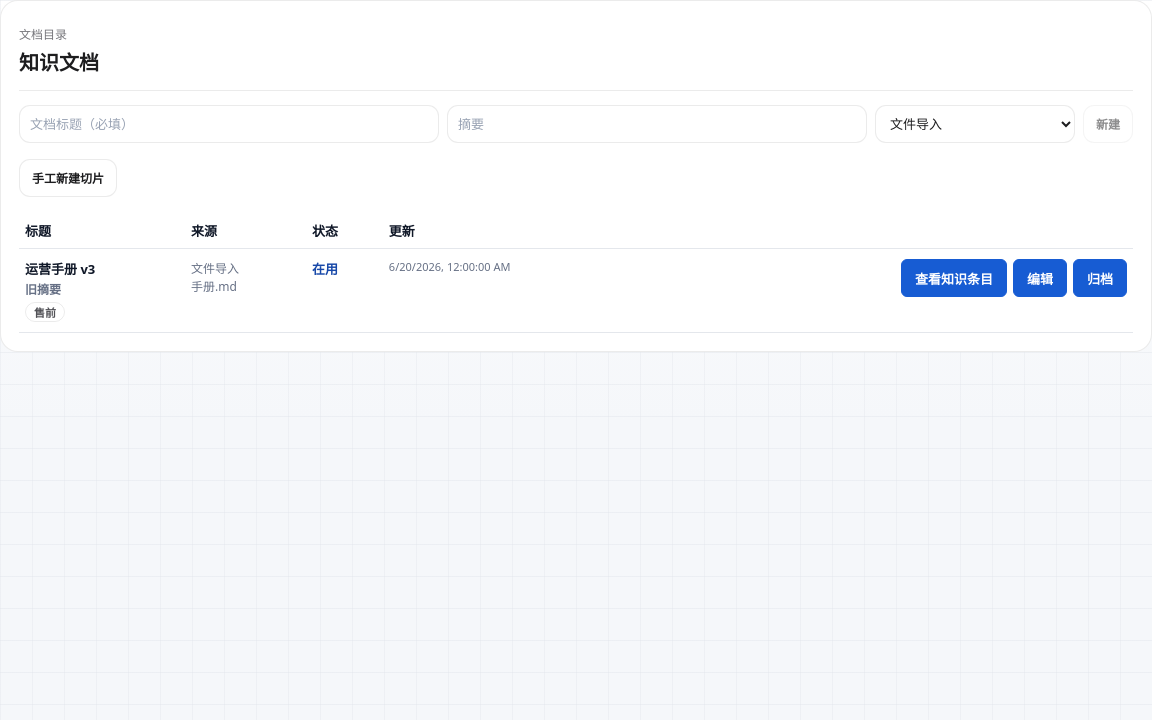
Test: DocumentsView — E6 文档元数据编辑（version CAS） › rejects a mismatched or versionless detail envelope
This screenshot has width=1152, height=720.
Check: the text "运营手册 v3" is shown, box [25, 260, 95, 278]
Click the button "编辑": [1040, 278] box [1013, 259, 1067, 297]
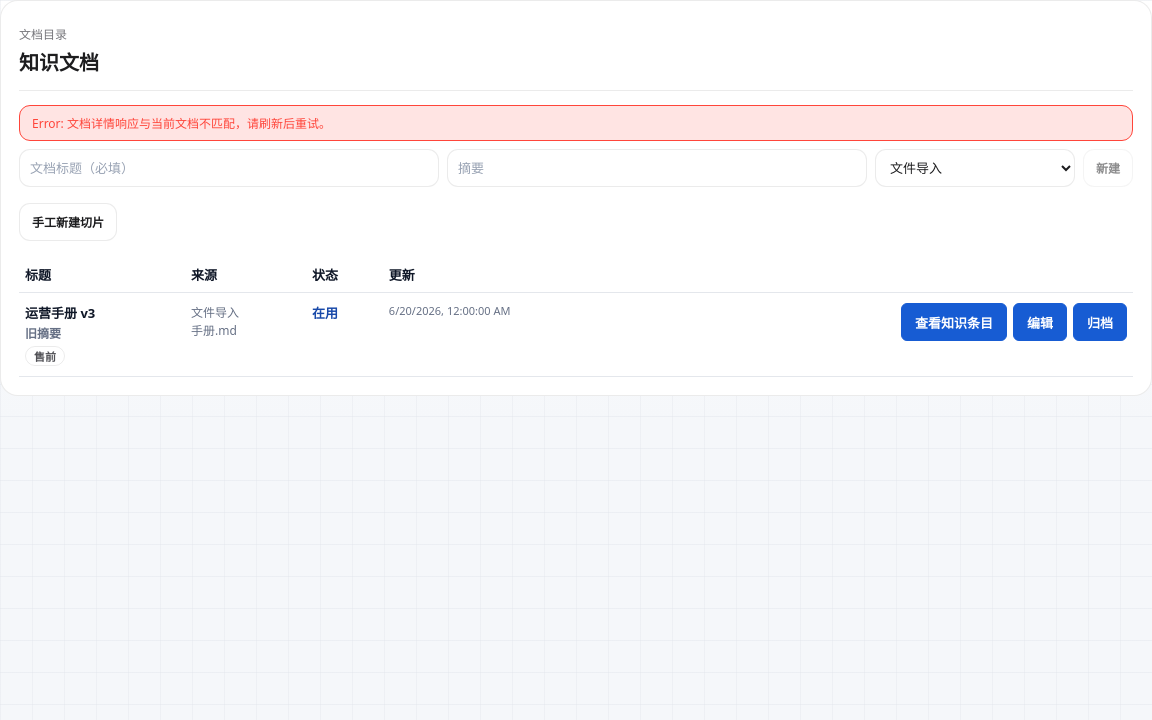
Check: the text "Error: 文档详情响应与当前文档不匹配，请刷新后重试。" is shown, box [19, 105, 1133, 141]
